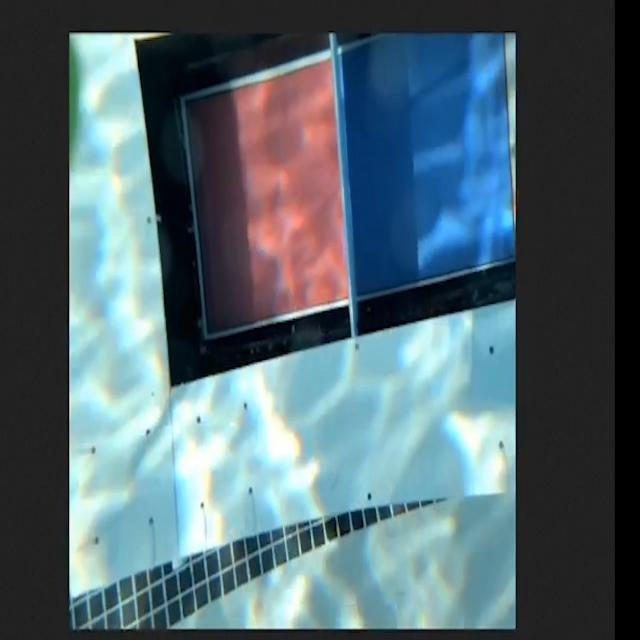Bin: (69, 32, 516, 599)
